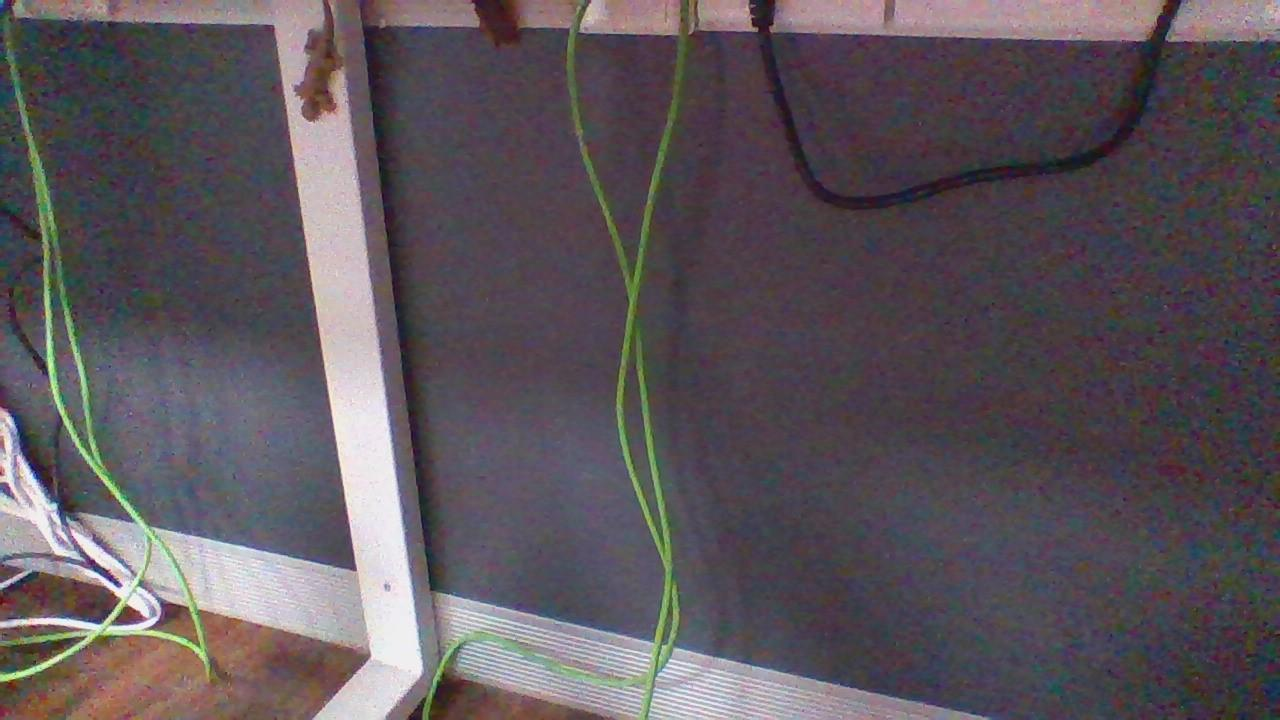cockroach: (459, 0, 529, 57)
lizard: (289, 0, 352, 140)
